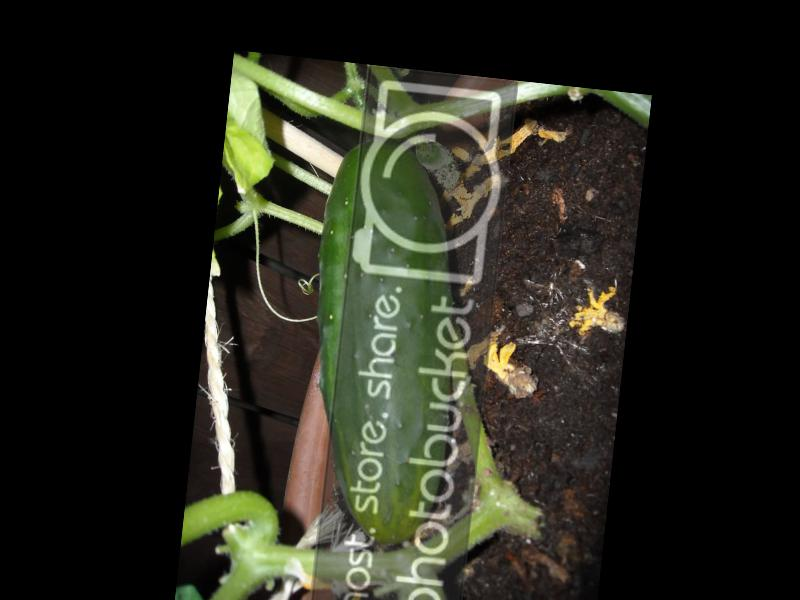Cucumber: (290, 135, 481, 549)
